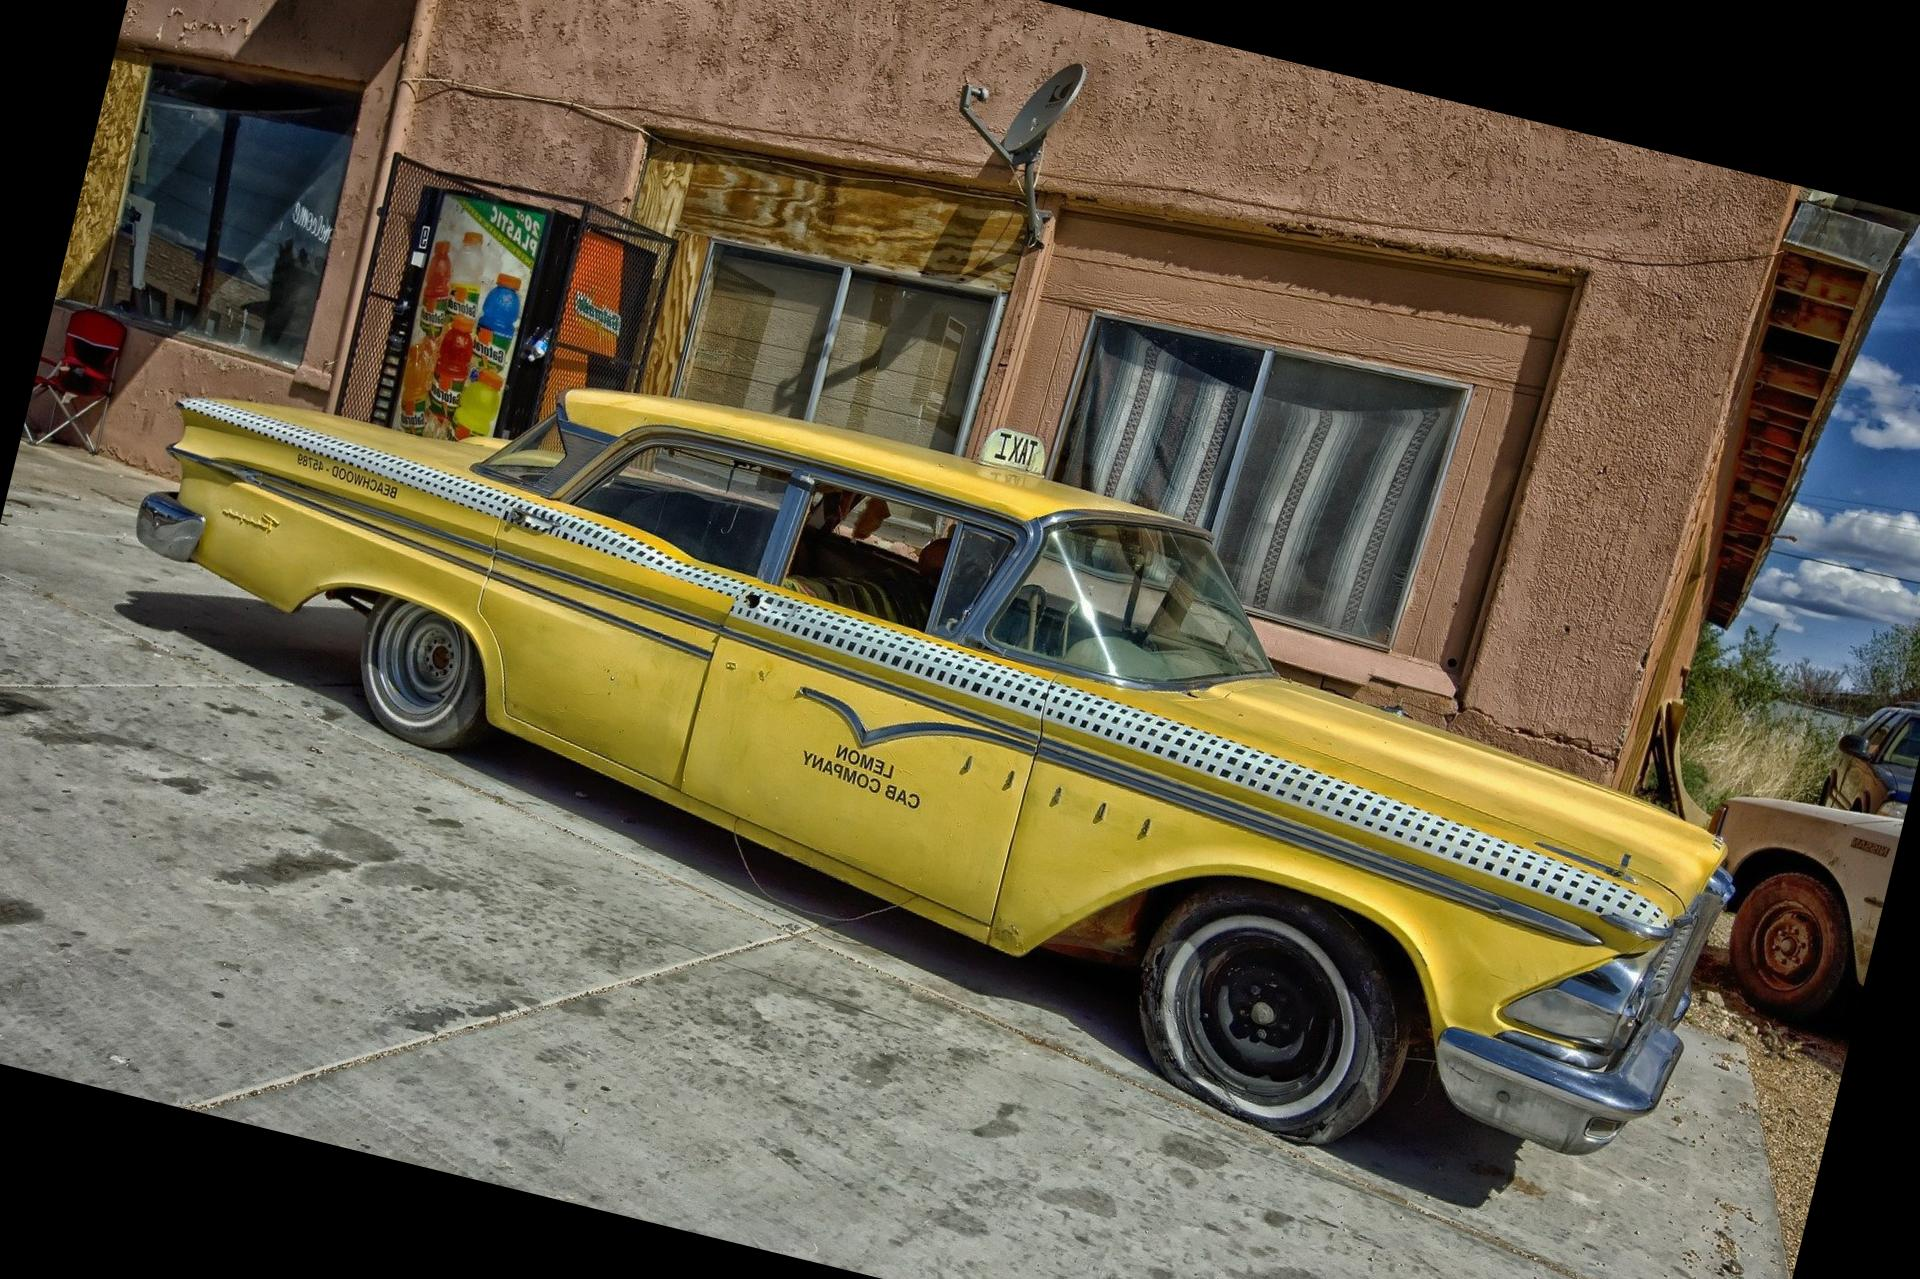taxi: (147, 335, 1703, 1185)
